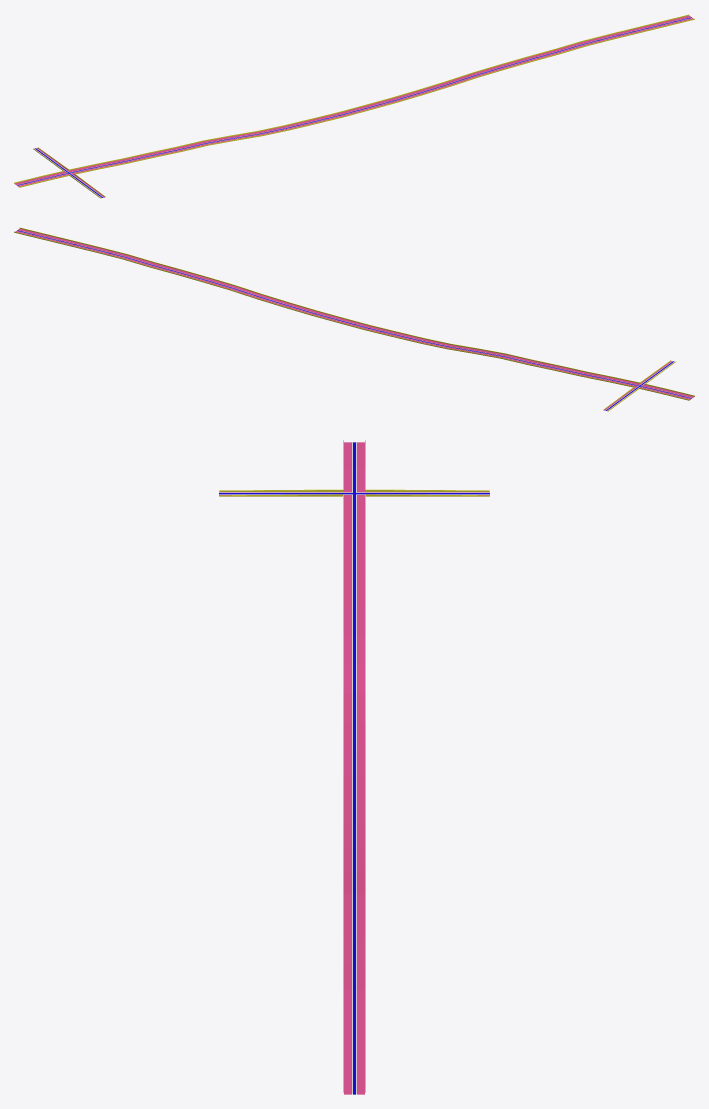
File: Road3D.fbx
The picture shows the model from 3 angles, top to bottom: view 1: azimuth 30°, elevation 25°; view 2: azimuth 150°, elevation 25°; view 3: azimuth 270°, elevation 25°; orthographic projection. The views are drawn at different scales.
Parts seen in each view (by area): view 1: Cube; view 2: Cube; view 3: Cube.
Part boxes in pixels (bbox=[...]): Cube: bbox=[14, 14, 694, 198]; Cube: bbox=[14, 227, 694, 411]; Cube: bbox=[219, 440, 489, 1094].
Size of the model in its own units: 250002 by 4580 by 43466.
